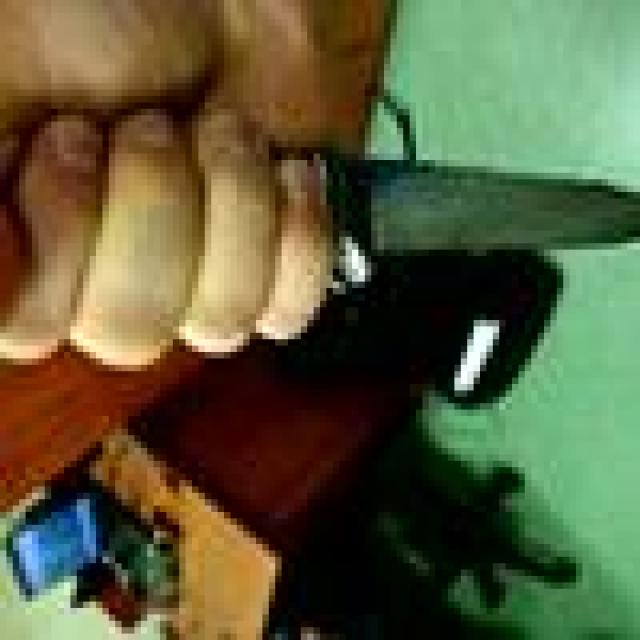Knife: (333, 128, 640, 250)
